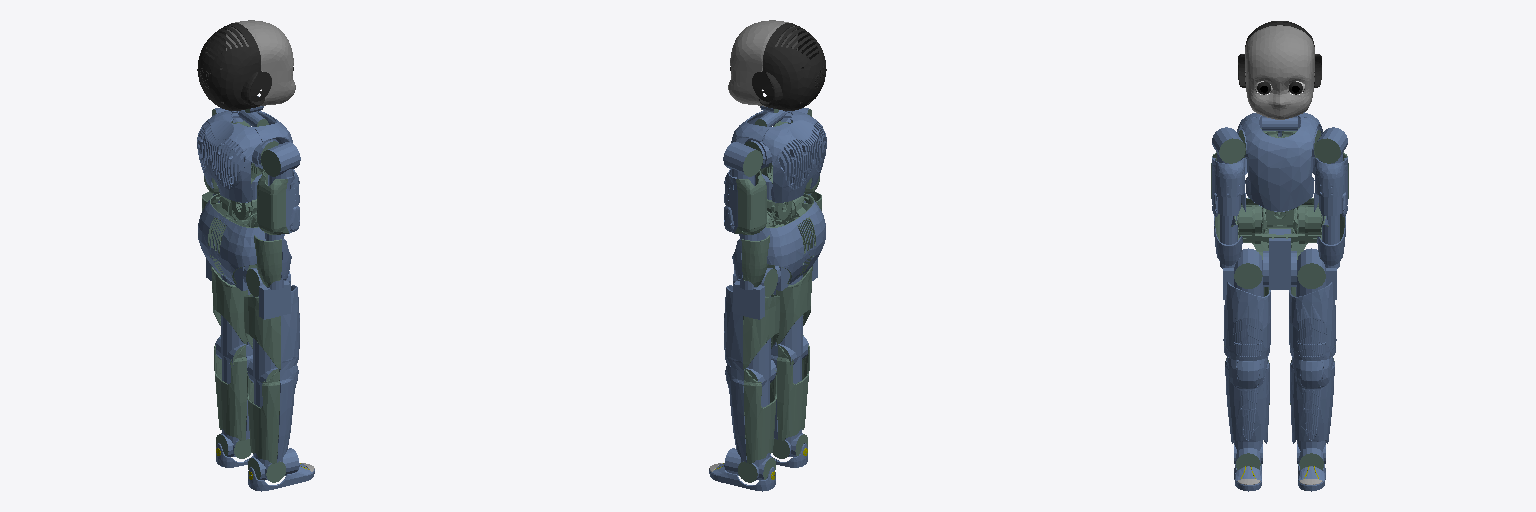
--- What the picture shows (computed from the rendered views, not written in the file) ---
The picture shows the robot from 3 angles, left to right: view 1: azimuth 30°, elevation 25°; view 2: azimuth 150°, elevation 25°; view 3: azimuth 270°, elevation 25°; orthographic projection.
Model iCub with 56 links and 55 joints (12 revolute, 43 fixed), rooted at base_link, posed all joints at 0.
Links seen in each view (by area): view 1: head, chest, torso_1, r_lower_leg, r_upper_leg, l_lower_leg, r_upper_arm, l_upper_leg, r_forearm, r_foot, r_shoulder_2, r_hand (+1 smaller); view 2: head, chest, torso_1, l_lower_leg, l_upper_leg, r_lower_leg, l_upper_arm, r_upper_leg, l_forearm, l_foot, l_shoulder_2, l_hand (+1 smaller); view 3: head, chest, l_lower_leg, r_lower_leg, l_upper_leg, r_upper_leg, torso_1, l_upper_arm, r_upper_arm, root_link, l_forearm, r_forearm (+6 smaller).
Link boxes in pixels (left/top/right/bottom): head: left=197, top=20, right=295, bottom=110; chest: left=197, top=110, right=292, bottom=202; torso_1: left=198, top=193, right=284, bottom=284; r_lower_leg: left=247, top=364, right=298, bottom=466; r_upper_leg: left=244, top=285, right=299, bottom=386; l_lower_leg: left=214, top=335, right=252, bottom=443; r_upper_arm: left=257, top=169, right=299, bottom=234; l_upper_leg: left=211, top=266, right=250, bottom=365; r_forearm: left=254, top=233, right=291, bottom=289; r_foot: left=248, top=448, right=314, bottom=491; r_shoulder_2: left=261, top=142, right=300, bottom=176; r_hand: left=259, top=281, right=290, bottom=319; head: left=728, top=20, right=826, bottom=110; chest: left=731, top=111, right=826, bottom=202; torso_1: left=739, top=193, right=825, bottom=284; l_lower_leg: left=725, top=364, right=776, bottom=466; l_upper_leg: left=724, top=285, right=779, bottom=386; r_lower_leg: left=771, top=335, right=809, bottom=443; l_upper_arm: left=724, top=169, right=766, bottom=234; r_upper_leg: left=773, top=266, right=812, bottom=365; l_forearm: left=732, top=233, right=769, bottom=289; l_foot: left=709, top=448, right=775, bottom=491; l_shoulder_2: left=723, top=142, right=762, bottom=176; l_hand: left=733, top=281, right=764, bottom=319; head: left=1238, top=21, right=1321, bottom=119; chest: left=1237, top=112, right=1322, bottom=211; l_lower_leg: left=1290, top=357, right=1334, bottom=451; r_lower_leg: left=1225, top=357, right=1269, bottom=451; l_upper_leg: left=1289, top=277, right=1336, bottom=360; r_upper_leg: left=1223, top=277, right=1270, bottom=360; torso_1: left=1231, top=198, right=1328, bottom=259; l_upper_arm: left=1314, top=152, right=1348, bottom=216; r_upper_arm: left=1211, top=152, right=1245, bottom=216; root_link: left=1269, top=229, right=1290, bottom=289; l_forearm: left=1317, top=214, right=1345, bottom=268; r_forearm: left=1214, top=214, right=1242, bottom=268.
Bounding box of the posed robot: 0.2284 × 0.2951 × 1.05 m (x, y, z).
Meshes: 28 distinct files referenced, 28 mesh visuals loaded (28 Collada DAE).

URDF robot description (iCub):
<?xml version="1.0" ?>
<robot name="iCub">
    <link name="base_link" />
    <link name="chest">
        <inertial>
            <mass value="4.81" />
            <origin xyz="0.00222898 0.075 -1.18362e-17" rpy="0 -0 0" />
            <inertia ixx="0.07472" ixy="-3.6e-06" ixz="-4.705e-05" iyy="0.08145" iyz="0.004567" izz="0.01306" />
        </inertial>
        <visual>
            <origin xyz="-0.0055 -6.93889e-18 -1.72085e-18" rpy="0 -1.5708 1.5708" />
            <geometry>
                <mesh filename="package://icub_description/meshes/upmc/visual/icub_chest.dae" scale="1 1 1" />
            </geometry>
            <material name="material.metal">
                <texture />
                <!-- <color rgba="0 0 0 1" /> -->
            </material>
        </visual>
        <collision>
            <origin xyz="-0.0055 -6.93889e-18 -1.72085e-18" rpy="0 -1.5708 1.5708" />
            <geometry>
                <mesh filename="package://icub_description/meshes/upmc/collision/icub_simple_collision_chest.dae" scale="1 1 1" />
            </geometry>
        </collision>
    </link>
    <link name="chest_skin_frame">
        <inertial>
            <mass value="0" />
            <origin xyz="0 0 0" rpy="0 -0 0" />
            <inertia ixx="0" ixy="0" ixz="0" iyy="0" iyz="0" izz="0" />
        </inertial>
    </link>
    <link name="codyco_balancing_world">
        <inertial>
            <mass value="0" />
            <origin xyz="0 0 0" rpy="0 -0 0" />
            <inertia ixx="0" ixy="0" ixz="0" iyy="0" iyz="0" izz="0" />
        </inertial>
    </link>
    <link name="head">
        <inertial>
            <mass value="1.33687" />
            <origin xyz="0.0185 -0.1108 6.78454e-18" rpy="0 -0 0" />
            <inertia ixx="0" ixy="0" ixz="2.40741e-35" iyy="0" iyz="0" izz="0" />
        </inertial>
        <visual>
            <origin xyz="0.0045 -0.0235 9.42554e-13" rpy="0 1.5708 -1.5708" />
            <geometry>
                <mesh filename="package://icub_description/meshes/upmc/visual/icub_head.dae" scale="1 1 1" />
            </geometry>
            <material name="material.metal">
                <texture />
                <!-- <color rgba="0 0 0 1" /> -->
            </material>
        </visual>
        <collision>
            <origin xyz="0.0045 -0.0235 9.42554e-13" rpy="0 1.5708 -1.5708" />
            <geometry>
                <mesh filename="package://icub_description/meshes/upmc/collision/icub_simple_collision_head.dae" scale="1 1 1" />
            </geometry>
        </collision>
    </link>
    <link name="imu_frame">
        <inertial>
            <mass value="0" />
            <origin xyz="0 0 0" rpy="0 -0 0" />
            <inertia ixx="0" ixy="0" ixz="0" iyy="0" iyz="0" izz="0" />
        </inertial>
    </link>
    <link name="l_ankle_1">
        <inertial>
            <mass value="0.746" />
            <origin xyz="-0.0054 0.00163 0.0172" rpy="0 -0 0" />
            <inertia ixx="0.00063323" ixy="-7.081e-06" ixz="4.1421e-05" iyy="0.00068776" iyz="2.0817e-05" izz="0.000313897" />
        </inertial>
        <visual>
            <origin xyz="1.11022e-16 -5.54343e-12 4.45647e-12" rpy="1.5708 1.53106e-11 1.53105e-11" />
            <geometry>
                <mesh filename="package://icub_description/meshes/upmc/visual/icub_l_ankle_1.dae" scale="1 1 1" />
            </geometry>
            <material name="material.metal">
                <texture />
                <!-- <color rgba="0 0 0 1" /> -->
            </material>
        </visual>
        <collision>
            <origin xyz="1.11022e-16 -5.54343e-12 4.45647e-12" rpy="1.5708 1.53106e-11 1.53105e-11" />
            <geometry>
                <mesh filename="package://icub_description/meshes/upmc/collision/icub_simple_collision_l_ankle_1.dae" scale="1 1 1" />
            </geometry>
        </collision>
    </link>
    <link name="l_ankle_2">
        <inertial>
            <mass value="0.2675" />
            <origin xyz="0.017 0 0.042" rpy="0 -0 0" />
            <inertia ixx="0" ixy="0" ixz="0" iyy="0" iyz="0" izz="0" />
        </inertial>
    </link>
    <link name="l_elbow_1">
        <inertial>
            <mass value="0.074" />
            <origin xyz="-0.0013 0.00371 -0.00105" rpy="0 -0 0" />
            <inertia ixx="2.8389e-05" ixy="-5.15e-07" ixz="-4.08e-07" iyy="9.244e-06" iyz="-3.71e-07" izz="2.9968e-05" />
        </inertial>
    </link>
    <link name="l_foot">
        <inertial>
            <mass value="0.5935" />
            <origin xyz="0.007069 -0.000613931 -0.0334154" rpy="0 -0 0" />
            <inertia ixx="0.00193893" ixy="-1.3505e-05" ixz="0.0001823" iyy="0.0030191" iyz="-3.30533e-06" izz="0.00162801" />
        </inertial>
        <visual>
            <origin xyz="-0.017 -5.54343e-12 -0.042" rpy="0 1.5708 -2.0414e-11" />
            <geometry>
                <mesh filename="package://icub_description/meshes/upmc/visual/icub_l_foot.dae" scale="1 1 1" />
            </geometry>
            <material name="material.metal">
                <texture />
                <!-- <color rgba="0 0 0 1" /> -->
            </material>
        </visual>
        <collision>
            <origin xyz="-0.017 -5.54343e-12 -0.042" rpy="0 1.5708 -2.0414e-11" />
            <geometry>
                <mesh filename="package://icub_description/meshes/upmc/collision/icub_simple_collision_l_foot.dae" scale="1 1 1" />
            </geometry>
        </collision>
    </link>
    <link name="l_foot_dh_frame">
        <inertial>
            <mass value="0" />
            <origin xyz="0 0 0" rpy="0 -0 0" />
            <inertia ixx="0" ixy="0" ixz="0" iyy="0" iyz="0" izz="0" />
        </inertial>
    </link>
    <link name="l_forearm">
        <inertial>
            <mass value="0.525" />
            <origin xyz="0.000347 0.066 0.00476" rpy="0 -0 0" />
            <inertia ixx="0.000765393" ixy="4.337e-06" ixz="2.39e-07" iyy="0.000164578" iyz="1.9381e-05" izz="0.00069806" />
        </inertial>
        <visual>
            <origin xyz="-0.000143922 -1.25977e-12 0.0204334" rpy="0 1.5708 1.5708" />
            <geometry>
                <mesh filename="package://icub_description/meshes/upmc/visual/icub_l_forearm.dae" scale="1 1 1" />
            </geometry>
            <material name="material.metal">
                <texture />
                <!-- <color rgba="0 0 0 1" /> -->
            </material>
        </visual>
        <collision>
            <origin xyz="-0.000143922 -1.25977e-12 0.0204334" rpy="0 1.5708 1.5708" />
            <geometry>
                <mesh filename="package://icub_description/meshes/upmc/collision/icub_simple_collision_l_forearm.dae" scale="1 1 1" />
            </geometry>
        </collision>
    </link>
    <link name="l_forearm_dh_frame">
        <inertial>
            <mass value="0" />
            <origin xyz="0 0 0" rpy="0 -0 0" />
            <inertia ixx="0" ixy="0" ixz="0" iyy="0" iyz="0" izz="0" />
        </inertial>
    </link>
    <link name="l_gripper">
        <inertial>
            <mass value="0" />
            <origin xyz="0 0 0" rpy="0 -0 0" />
            <inertia ixx="0" ixy="0" ixz="0" iyy="0" iyz="0" izz="0" />
        </inertial>
    </link>
    <link name="l_hand">
        <inertial>
            <mass value="0.213" />
            <origin xyz="0.07023 -0.00805 -0.007" rpy="0 -0 0" />
            <inertia ixx="0.000157143" ixy="1.278e-05" ixz="4.823e-06" iyy="0.000247995" iyz="-1.8188e-05" izz="0.000380535" />
        </inertial>
        <visual>
            <origin xyz="-1.25981e-12 0.0204334 -0.000143922" rpy="5.10195e-12 -2.64173e-12 1.49623e-11" />
            <geometry>
                <mesh filename="package://icub_description/meshes/upmc/visual/icub_l_hand.dae" scale="1 1 1" />
            </geometry>
            <material name="material.metal">
                <texture />
                <!-- <color rgba="0 0 0 1" /> -->
            </material>
        </visual>
        <collision>
            <origin xyz="-1.25981e-12 0.0204334 -0.000143922" rpy="5.10195e-12 -2.64173e-12 1.49623e-11" />
            <geometry>
                <mesh filename="package://icub_description/meshes/upmc/collision/icub_simple_collision_l_hand.dae" scale="1 1 1" />
            </geometry>
        </collision>
    </link>
    <link name="l_hand_dh_frame">
        <inertial>
            <mass value="0" />
            <origin xyz="0 0 0" rpy="0 -0 0" />
            <inertia ixx="0" ixy="0" ixz="0" iyy="0" iyz="0" izz="0" />
        </inertial>
    </link>
    <link name="l_hip_1">
        <inertial>
            <mass value="0.754" />
            <origin xyz="0 -0.0782 0" rpy="0 -0 0" />
            <inertia ixx="0.000471076" ixy="2.059e-06" ixz="1.451e-06" iyy="0.000346478" iyz="1.545e-06" izz="0.000510315" />
        </inertial>
        <visual>
            <origin xyz="0 0 0" rpy="0 1.5708 -1.5708" />
            <geometry>
                <mesh filename="package://icub_description/meshes/upmc/visual/icub_l_hip_1.dae" scale="1 1 1" />
            </geometry>
            <material name="material.metal">
                <texture />
                <!-- <color rgba="0 0 0 1" /> -->
            </material>
        </visual>
        <collision>
            <origin xyz="0 0 0" rpy="0 1.5708 -1.5708" />
            <geometry>
                <mesh filename="package://icub_description/meshes/upmc/collision/icub_simple_collision_l_hip_1.dae" scale="1 1 1" />
            </geometry>
        </collision>
    </link>
    <link name="l_hip_2">
        <inertial>
            <mass value="0.526" />
            <origin xyz="0 0 0.03045" rpy="0 -0 0" />
            <inertia ixx="0.000561583" ixy="-7.4e-08" ixz="1.0835e-05" iyy="0.000738049" iyz="-6.2e-08" izz="0.000294119" />
        </inertial>
        <visual>
            <origin xyz="0 0 0" rpy="0 -1.5708 3.14159" />
            <geometry>
                <mesh filename="package://icub_description/meshes/upmc/visual/icub_l_hip_2.dae" scale="1 1 1" />
            </geometry>
            <material name="material.metal">
                <texture />
                <!-- <color rgba="0 0 0 1" /> -->
            </material>
        </visual>
        <collision>
            <origin xyz="0 0 0" rpy="0 -1.5708 3.14159" />
            <geometry>
                <mesh filename="package://icub_description/meshes/upmc/collision/icub_simple_collision_l_hip_2.dae" scale="1 1 1" />
            </geometry>
        </collision>
    </link>
    <link name="l_hip_3">
        <inertial>
            <mass value="0" />
            <origin xyz="0 0 0" rpy="0 -0 0" />
            <inertia ixx="0" ixy="0" ixz="0" iyy="0" iyz="0" izz="0" />
        </inertial>
    </link>
    <link name="l_lower_leg">
        <inertial>
            <mass value="1.264" />
            <origin xyz="-0.1071 0.00182 0.00211" rpy="0 -0 0" />
            <inertia ixx="0.00099895" ixy="-0.000185699" ixz="-6.3147e-05" iyy="0.00445054" iyz="7.86e-07" izz="0.00420766" />
        </inertial>
        <visual>
            <origin xyz="5.55112e-17 2.28232e-12 2.2823e-12" rpy="-3.14159 -2.33487e-16 1.5708" />
            <geometry>
                <mesh filename="package://icub_description/meshes/upmc/visual/icub_l_shank.dae" scale="1 1 1" />
            </geometry>
            <material name="material.metal">
                <texture />
                <!-- <color rgba="0 0 0 1" /> -->
            </material>
        </visual>
        <collision>
            <origin xyz="5.55112e-17 2.28232e-12 2.2823e-12" rpy="-3.14159 -2.33487e-16 1.5708" />
            <geometry>
                <mesh filename="package://icub_description/meshes/upmc/collision/icub_simple_collision_l_shank.dae" scale="1 1 1" />
            </geometry>
        </collision>
    </link>
    <link name="l_shoulder_1">
        <inertial>
            <mass value="0.189" />
            <origin xyz="-5e-06 0.0187 -0.00119" rpy="0 -0 0" />
            <inertia ixx="5.4421e-05" ixy="9e-09" ixz="0" iyy="9.331e-06" iyz="-1.7e-08" izz="5.4862e-05" />
        </inertial>
        <visual>
            <origin xyz="3.08087e-14 0.109285 -0.00521101" rpy="0 1.5708 -1.5708" />
            <geometry>
                <mesh filename="package://icub_description/meshes/upmc/visual/icub_l_shoulder_1.dae" scale="1 1 1" />
            </geometry>
            <material name="material.metal">
                <texture />
                <!-- <color rgba="0 0 0 1" /> -->
            </material>
        </visual>
        <collision>
            <origin xyz="3.08087e-14 0.109285 -0.00521101" rpy="0 1.5708 -1.5708" />
            <geometry>
                <mesh filename="package://icub_description/meshes/upmc/collision/icub_simple_collision_l_shoulder_1.dae" scale="1 1 1" />
            </geometry>
        </collision>
    </link>
    <link name="l_shoulder_2">
        <inertial>
            <mass value="0.179" />
            <origin xyz="9.4e-05 -0.00627 0.0166" rpy="0 -0 0" />
            <inertia ixx="0.0001372" ixy="4.66e-07" ixz="3.65e-07" iyy="8.2927e-05" iyz="-2.0524e-05" izz="9.9274e-05" />
        </inertial>
        <visual>
            <origin xyz="-0.00154529 -0.00521101 -1.11181e-12" rpy="0 1.5708 1.5708" />
            <geometry>
                <mesh filename="package://icub_description/meshes/upmc/visual/icub_l_shoulder_2.dae" scale="1 1 1" />
            </geometry>
            <material name="material.metal">
                <texture />
                <!-- <color rgba="0 0 0 1" /> -->
            </material>
        </visual>
        <collision>
            <origin xyz="-0.00154529 -0.00521101 -1.11181e-12" rpy="0 1.5708 1.5708" />
            <geometry>
                <mesh filename="package://icub_description/meshes/upmc/collision/icub_simple_collision_l_shoulder_2.dae" scale="1 1 1" />
            </geometry>
        </collision>
    </link>
    <link name="l_shoulder_3">
        <inertial>
            <mass value="0.156157" />
            <origin xyz="0.00559398 9.77357e-05 0.0501346" rpy="0 -0 0" />
            <inertia ixx="4.84118e-05" ixy="-5.662e-08" ixz="-4.3618e-06" iyy="5.79067e-05" iyz="-7.42844e-07" izz="6.7103e-05" />
        </inertial>
    </link>
    <link name="l_sole">
        <inertial>
            <mass value="0" />
            <origin xyz="0 0 0" rpy="0 -0 0" />
            <inertia ixx="0" ixy="0" ixz="0" iyy="0" iyz="0" izz="0" />
        </inertial>
    </link>
    <link name="l_upper_arm">
        <inertial>
            <mass value="0.727843" />
            <origin xyz="-0.000156 -9.87e-05 0.0298" rpy="0 -0 0" />
            <inertia ixx="0.000408" ixy="-1.08e-06" ixz="-2.29e-06" iyy="0.00038" iyz="3.57e-06" izz="0.00026" />
        </inertial>
        <visual>
            <origin xyz="-0.0204334 0.000143922 -0.068" rpy="1.15275e-11 4.9296e-12 -1.309" />
            <geometry>
                <mesh filename="package://icub_description/meshes/upmc/visual/icub_l_arm.dae" scale="1 1 1" />
            </geometry>
            <material name="material.metal">
                <texture />
                <!-- <color rgba="0 0 0 1" /> -->
            </material>
        </visual>
        <collision>
            <origin xyz="-0.0204334 0.000143922 -0.068" rpy="1.15275e-11 4.9296e-12 -1.309" />
            <geometry>
                <mesh filename="package://icub_description/meshes/upmc/collision/icub_simple_collision_l_arm.dae" scale="1 1 1" />
            </geometry>
        </collision>
    </link>
    <link name="l_upper_arm_dh_frame">
        <inertial>
            <mass value="0" />
            <origin xyz="0 0 0" rpy="0 -0 0" />
            <inertia ixx="0" ixy="0" ixz="0" iyy="0" iyz="0" izz="0" />
        </inertial>
    </link>
    <link name="l_upper_leg">
        <inertial>
            <mass value="2.175" />
            <origin xyz="0.00144 -0.15943 -0.00039" rpy="0 -0 0" />
            <inertia ixx="0.00759107" ixy="-6.726e-05" ixz="2.267e-06" iyy="0.00142302" iyz="3.63726e-05" izz="0.00755385" />
        </inertial>
        <visual>
            <origin xyz="0 0 0" rpy="0 1.5708 1.5708" />
            <geometry>
                <mesh filename="package://icub_description/meshes/upmc/visual/icub_l_thigh.dae" scale="1 1 1" />
            </geometry>
            <material name="material.metal">
                <texture />
                <!-- <color rgba="0 0 0 1" /> -->
            </material>
        </visual>
        <collision>
            <origin xyz="0 0 0" rpy="0 1.5708 1.5708" />
            <geometry>
                <mesh filename="package://icub_description/meshes/upmc/collision/icub_simple_collision_l_thigh.dae" scale="1 1 1" />
            </geometry>
        </collision>
    </link>
    <link name="l_wrist_1">
        <inertial>
            <mass value="0" />
            <origin xyz="0 0 0" rpy="0 -0 0" />
            <inertia ixx="0" ixy="0" ixz="0" iyy="0" iyz="0" izz="0" />
        </inertial>
    </link>
    <link name="neck_1">
        <inertial>
            <mass value="0" />
            <origin xyz="0 0 0" rpy="0 -0 0" />
            <inertia ixx="0" ixy="0" ixz="0" iyy="0" iyz="0" izz="0" />
        </inertial>
        <visual>
            <origin xyz="-1.11022e-16 9.62964e-13 -0.0055" rpy="0 -1.5708 -1.5708" />
            <geometry>
                <mesh filename="package://icub_description/meshes/upmc/visual/icub_neck_1.dae" scale="1 1 1" />
            </geometry>
            <material name="material.metal">
                <texture />
                <!-- <color rgba="0 0 0 1" /> -->
            </material>
        </visual>
        <collision>
            <origin xyz="-1.11022e-16 9.62964e-13 -0.0055" rpy="0 -1.5708 -1.5708" />
            <geometry>
                <mesh filename="package://icub_description/meshes/upmc/collision/icub_simple_collision_neck_1.dae" scale="1 1 1" />
            </geometry>
        </collision>
    </link>
    <link name="neck_2">
        <inertial>
            <mass value="0" />
            <origin xyz="0 0 0" rpy="0 -0 0" />
            <inertia ixx="0" ixy="0" ixz="0" iyy="0" iyz="0" izz="0" />
        </inertial>
        <visual>
            <origin xyz="-9.62967e-13 0.0055 0.0235" rpy="0 -1.5708 1.5708" />
            <geometry>
                <mesh filename="package://icub_description/meshes/upmc/visual/icub_neck_2.dae" scale="1 1 1" />
            </geometry>
            <material name="material.metal">
                <texture />
                <!-- <color rgba="0 0 0 1" /> -->
            </material>
        </visual>
        <collision>
            <origin xyz="-9.62967e-13 0.0055 0.0235" rpy="0 -1.5708 1.5708" />
            <geometry>
                <mesh filename="package://icub_description/meshes/upmc/collision/icub_simple_collision_neck_2.dae" scale="1 1 1" />
            </geometry>
        </collision>
    </link>
    <link name="r_ankle_1">
        <inertial>
            <mass value="0.746" />
            <origin xyz="-0.0054 0.00163 -0.0172" rpy="0 -0 0" />
            <inertia ixx="2.71051e-20" ixy="-1.69407e-21" ixz="1.35525e-20" iyy="5.42101e-20" iyz="3.38813e-21" izz="1.35525e-20" />
        </inertial>
        <visual>
            <origin xyz="1.11022e-16 -1.08717e-12 -4.45647e-12" rpy="-1.5708 -1.53106e-11 5.10376e-12" />
            <geometry>
                <mesh filename="package://icub_description/meshes/upmc/visual/icub_r_ankle_1.dae" scale="1 1 1" />
            </geometry>
            <material name="material.metal">
                <texture />
                <!-- <color rgba="0 0 0 1" /> -->
            </material>
        </visual>
        <collision>
            <origin xyz="1.11022e-16 -1.08717e-12 -4.45647e-12" rpy="-1.5708 -1.53106e-11 5.10376e-12" />
            <geometry>
                <mesh filename="package://icub_description/meshes/upmc/collision/icub_simple_collision_r_ankle_1.dae" scale="1 1 1" />
            </geometry>
        </collision>
    </link>
    <link name="r_ankle_2">
        <inertial>
            <mass value="0.2675" />
            <origin xyz="0.017 0 0.042" rpy="0 -0 0" />
            <inertia ixx="0" ixy="0" ixz="0" iyy="0" iyz="0" izz="0" />
        </inertial>
    </link>
    <link name="r_elbow_1">
        <inertial>
            <mass value="0.074" />
            <origin xyz="0.0013 -0.00371 0.00105" rpy="0 -0 0" />
            <inertia ixx="2.84e-05" ixy="-5.02e-07" ixz="-3.99e-07" iyy="9.24e-06" iyz="-3.71e-07" izz="2.99e-05" />
        </inertial>
    </link>
    <link name="r_foot">
        <inertial>
            <mass value="0.5935" />
            <origin xyz="0.007069 0.000613931 -0.0334154" rpy="0 -0 0" />
            <inertia ixx="0.00193893" ixy="1.3505e-05" ixz="0.0001823" iyy="0.0030191" iyz="3.30551e-06" izz="0.00162801" />
        </inertial>
        <visual>
            <origin xyz="-0.017 1.08717e-12 -0.042" rpy="0 1.5708 3.14159" />
            <geometry>
                <mesh filename="package://icub_description/meshes/upmc/visual/icub_r_foot.dae" scale="1 1 1" />
            </geometry>
            <material name="material.metal">
                <texture />
                <!-- <color rgba="0 0 0 1" /> -->
            </material>
        </visual>
        <collision>
            <origin xyz="-0.017 1.08717e-12 -0.042" rpy="0 1.5708 3.14159" />
            <geometry>
                <mesh filename="package://icub_description/meshes/upmc/collision/icub_simple_collision_r_foot.dae" scale="1 1 1" />
            </geometry>
        </collision>
    </link>
    <link name="r_foot_dh_frame">
        <inertial>
            <mass value="0" />
            <origin xyz="0 0 0" rpy="0 -0 0" />
            <inertia ixx="0" ixy="0" ixz="0" iyy="0" iyz="0" izz="0" />
        </inertial>
    </link>
    <link name="r_forearm">
        <inertial>
            <mass value="0.525" />
            <origin xyz="-0.000347 -0.066 -0.00476" rpy="0 -0 0" />
            <inertia ixx="0.000766" ixy="5.66e-06" ixz="1.4e-06" iyy="0.000164" iyz="1.82e-05" izz="0.000699" />
        </inertial>
        <visual>
            <origin xyz="0.000143922 -1.07216e-12 -0.0204334" rpy="0 1.5708 1.5708" />
            <geometry>
                <mesh filename="package://icub_description/meshes/upmc/visual/icub_r_forearm.dae" scale="1 1 1" />
            </geometry>
            <material name="material.metal">
                <texture />
                <!-- <color rgba="0 0 0 1" /> -->
            </material>
        </visual>
        <collision>
            <origin xyz="0.000143922 -1.07216e-12 -0.0204334" rpy="0 1.5708 1.5708" />
            <geometry>
                <mesh filename="package://icub_description/meshes/upmc/collision/icub_simple_collision_r_forearm.dae" scale="1 1 1" />
            </geometry>
        </collision>
    </link>
    <link name="r_forearm_dh_frame">
        <inertial>
            <mass value="0" />
            <origin xyz="0 0 0" rpy="0 -0 0" />
            <inertia ixx="0" ixy="0" ixz="0" iyy="0" iyz="0" izz="0" />
        </inertial>
    </link>
    <link name="r_gripper">
        <inertial>
            <mass value="0" />
            <origin xyz="0 0 0" rpy="0 -0 0" />
            <inertia ixx="0" ixy="0" ixz="0" iyy="0" iyz="0" izz="0" />
        </inertial>
    </link>
    <link name="r_hand">
        <inertial>
            <mass value="0.213" />
            <origin xyz="0.07023 -0.00805 0.007" rpy="0 -0 0" />
            <inertia ixx="0.000154" ixy="1.26e-05" ixz="-6.08e-06" iyy="0.00025" iyz="1.76e-05" izz="0.000378" />
        </inertial>
        <visual>
            <origin xyz="1.07207e-12 0.0204334 0.000143922" rpy="1.53098e-11 2.00665e-11 -3.14159" />
            <geometry>
                <mesh filename="package://icub_description/meshes/upmc/visual/icub_r_hand.dae" scale="1 1 1" />
            </geometry>
            <material name="material.metal">
                <texture />
                <!-- <color rgba="0 0 0 1" /> -->
            </material>
        </visual>
        <collision>
            <origin xyz="1.07207e-12 0.0204334 0.000143922" rpy="1.53098e-11 2.00665e-11 -3.14159" />
            <geometry>
                <mesh filename="package://icub_description/meshes/upmc/collision/icub_simple_collision_r_hand.dae" scale="1 1 1" />
            </geometry>
        </collision>
    </link>
    <link name="r_hand_dh_frame">
        <inertial>
            <mass value="0" />
            <origin xyz="0 0 0" rpy="0 -0 0" />
            <inertia ixx="0" ixy="0" ixz="0" iyy="0" iyz="0" izz="0" />
        </inertial>
    </link>
    <link name="r_hip_1">
        <inertial>
            <mass value="0.754" />
            <origin xyz="0 -0.0782 0" rpy="0 -0 0" />
            <inertia ixx="0" ixy="0" ixz="0" iyy="0" iyz="0" izz="0" />
        </inertial>
        <visual>
            <origin xyz="0 0 0" rpy="0 -1.5708 4.71239" />
            <geometry>
                <mesh filename="package://icub_description/meshes/upmc/visual/icub_r_hip_1.dae" scale="1 1 1" />
            </geometry>
            <material name="material.metal">
                <texture />
                <!-- <color rgba="0 0 0 1" /> -->
            </material>
        </visual>
        <collision>
            <origin xyz="0 0 0" rpy="0 -1.5708 4.71239" />
            <geometry>
                <mesh filename="package://icub_description/meshes/upmc/collision/icub_simple_collision_r_hip_1.dae" scale="1 1 1" />
            </geometry>
        </collision>
    </link>
    <link name="r_hip_2">
        <inertial>
            <mass value="0.526" />
            <origin xyz="0 0 0.03045" rpy="0 -0 0" />
            <inertia ixx="-5.42101e-20" ixy="0" ixz="0" iyy="-5.42101e-20" iyz="0" izz="0" />
        </inertial>
        <visual>
            <origin xyz="0 0 0" rpy="0 -1.5708 1.02066e-11" />
            <geometry>
                <mesh filename="package://icub_description/meshes/upmc/visual/icub_r_hip_2.dae" scale="1 1 1" />
            </geometry>
            <material name="material.metal">
                <texture />
                <!-- <color rgba="0 0 0 1" /> -->
            </material>
        </visual>
        <collision>
            <origin xyz="0 0 0" rpy="0 -1.5708 1.02066e-11" />
            <geometry>
                <mesh filename="package://icub_description/meshes/upmc/collision/icub_simple_collision_r_hip_2.dae" scale="1 1 1" />
            </geometry>
        </collision>
    </link>
    <link name="r_hip_3">
        <inertial>
            <mass value="0" />
            <origin xyz="0 0 0" rpy="0 -0 0" />
            <inertia ixx="0" ixy="0" ixz="0" iyy="0" iyz="0" izz="0" />
        </inertial>
    </link>
    <link name="r_lower_leg">
        <inertial>
            <mass value="1.264" />
            <origin xyz="-0.1071 0.00182 -0.00211" rpy="0 -0 0" />
            <inertia ixx="1.10961e-18" ixy="5.42101e-20" ixz="-5.42101e-20" iyy="0" iyz="8.47033e-22" izz="0" />
        </inertial>
        <visual>
            <origin xyz="5.55112e-17 2.28232e-12 -8.32667e-17" rpy="3.14159 -1.14424e-17 1.5708" />
            <geometry>
                <mesh filename="package://icub_description/meshes/upmc/visual/icub_r_shank.dae" scale="1 1 1" />
            </geometry>
            <material name="material.metal">
                <texture />
                <!-- <color rgba="0 0 0 1" /> -->
            </material>
        </visual>
        <collision>
            <origin xyz="5.55112e-17 2.28232e-12 -8.32667e-17" rpy="3.14159 -1.14424e-17 1.5708" />
            <geometry>
                <mesh filename="package://icub_description/meshes/upmc/collision/icub_simple_collision_r_shank.dae" scale="1 1 1" />
            </geometry>
        </collision>
    </link>
    <link name="r_shoulder_1">
        <inertial>
            <mass value="0.189" />
            <origin xyz="5e-06 0.0187 0.00119" rpy="0 -0 0" />
            <inertia ixx="0.000123" ixy="2.1e-08" ixz="-1e-09" iyy="2.44e-05" iyz="4.22e-06" izz="0.000113" />
        </inertial>
        <visual>
            <origin xyz="-3.08642e-14 0.109285 0.00521101" rpy="0 1.5708 1.5708" />
            <geometry>
                <mesh filename="package://icub_description/meshes/upmc/visual/icub_r_shoulder_1.dae" scale="1 1 1" />
            </geometry>
            <material name="material.metal">
                <texture />
                <!-- <color rgba="0 0 0 1" /> -->
            </material>
        </visual>
        <collision>
            <origin xyz="-3.08642e-14 0.109285 0.00521101" rpy="0 1.5708 1.5708" />
            <geometry>
                <mesh filename="package://icub_description/meshes/upmc/collision/icub_simple_collision_r_shoulder_1.dae" scale="1 1 1" />
            </geometry>
        </collision>
    </link>
    <link name="r_shoulder_2">
        <inertial>
            <mass value="0.179" />
            <origin xyz="-9.4e-05 -0.00627 -0.0166" rpy="0 -0 0" />
            <inertia ixx="0.000137" ixy="-4.53e-07" ixz="2.03e-07" iyy="8.3e-05" iyz="2.07e-05" izz="9.93e-05" />
        </inertial>
        <visual>
            <origin xyz="-0.00154529 -0.00521101 -1.11186e-12" rpy="0 -1.5708 1.5708" />
            <geometry>
                <mesh filename="package://icub_description/meshes/upmc/visual/icub_r_shoulder_2.dae" scale="1 1 1" />
            </geometry>
            <material name="material.metal">
                <texture />
                <!-- <color rgba="0 0 0 1" /> -->
            </material>
        </visual>
        <collision>
            <origin xyz="-0.00154529 -0.00521101 -1.11186e-12" rpy="0 -1.5708 1.5708" />
            <geometry>
                <mesh filename="package://icub_description/meshes/upmc/collision/icub_simple_collision_r_shoulder_2.dae" scale="1 1 1" />
            </geometry>
        </collision>
    </link>
    <link name="r_shoulder_3">
        <inertial>
            <mass value="0.155" />
            <origin xyz="0.00553932 -2.47652e-05 0.0493895" rpy="0 -0 0" />
            <inertia ixx="3.44122e-05" ixy="3.56977e-07" ixz="-3.95372e-06" iyy="4.33544e-05" iyz="-6.5128e-06" izz="6.49393e-05" />
        </inertial>
    </link>
    <link name="r_sole">
        <inertial>
            <mass value="0" />
            <origin xyz="0 0 0" rpy="0 -0 0" />
            <inertia ixx="0" ixy="0" ixz="0" iyy="0" iyz="0" izz="0" />
        </inertial>
    </link>
    <link name="r_upper_arm">
        <inertial>
            <mass value="0.729" />
            <origin xyz="-0.00015906 8.28733e-05 0.0298828" rpy="0 -0 0" />
            <inertia ixx="0.000408" ixy="-1.08e-06" ixz="-2.29e-06" iyy="0.00038" iyz="3.57e-06" izz="0.00026" />
        </inertial>
        <visual>
            <origin xyz="-0.0204334 -0.000143922 -0.068" rpy="-3.14159 -1.5137e-11 1.309" />
            <geometry>
                <mesh filename="package://icub_description/meshes/upmc/visual/icub_r_arm.dae" scale="1 1 1" />
            </geometry>
            <material name="material.metal">
                <texture />
                <!-- <color rgba="0 0 0 1" /> -->
            </material>
        </visual>
        <collision>
            <origin xyz="-0.0204334 -0.000143922 -0.068" rpy="-3.14159 -1.5137e-11 1.309" />
            <geometry>
                <mesh filename="package://icub_description/meshes/upmc/collision/icub_simple_collision_r_arm.dae" scale="1 1 1" />
            </geometry>
        </collision>
    </link>
    <link name="r_upper_arm_dh_frame">
        <inertial>
            <mass value="0" />
            <origin xyz="0 0 0" rpy="0 -0 0" />
            <inertia ixx="0" ixy="0" ixz="0" iyy="0" iyz="0" izz="0" />
        </inertial>
    </link>
    <link name="r_upper_leg">
        <inertial>
            <mass value="2.175" />
            <origin xyz="0.00144 -0.15943 0.00039" rpy="0 -0 0" />
            <inertia ixx="0" ixy="0" ixz="0" iyy="4.07592e-18" iyz="-2.71051e-20" izz="0" />
        </inertial>
        <visual>
            <origin xyz="0 0 0" rpy="0 -1.5708 1.5708" />
            <geometry>
                <mesh filename="package://icub_description/meshes/upmc/visual/icub_r_thigh.dae" scale="1 1 1" />
            </geometry>
            <material name="material.metal">
                <texture />
                <!-- <color rgba="0 0 0 1" /> -->
            </material>
        </visual>
        <collision>
            <origin xyz="0 0 0" rpy="0 -1.5708 1.5708" />
            <geometry>
                <mesh filename="package://icub_description/meshes/upmc/collision/icub_simple_collision_r_thigh.dae" scale="1 1 1" />
            </geometry>
        </collision>
    </link>
    <link name="r_wrist_1">
        <inertial>
            <mass value="0" />
            <origin xyz="0 0 0" rpy="0 -0 0" />
            <inertia ixx="0" ixy="0" ixz="0" iyy="0" iyz="0" izz="0" />
        </inertial>
    </link>
    <link name="root_link">
        <inertial>
            <mass value="4.72" />
            <origin xyz="0 0 0" rpy="0 -0 0" />
            <inertia ixx="0" ixy="0" ixz="0" iyy="0" iyz="0" izz="0" />
        </inertial>
        <visual>
            <origin xyz="0 0 0" rpy="0 -0 0" />
            <geometry>
                <mesh filename="package://icub_description/meshes/upmc/visual/icub_root_link.dae" scale="1 1 1" />
            </geometry>
            <material name="material.metal">
                <texture />
                <!-- <color rgba="0 0 0 1" /> -->
            </material>
        </visual>
        <collision>
            <origin xyz="0 0 0" rpy="0 -0 0" />
            <geometry>
                <mesh filename="package://icub_description/meshes/upmc/collision/icub_simple_collision_root_link.dae" scale="1 1 1" />
            </geometry>
        </collision>
    </link>
    <link name="torso">
        <inertial>
            <mass value="0" />
            <origin xyz="0 0 0" rpy="0 -0 0" />
            <inertia ixx="0" ixy="0" ixz="0" iyy="0" iyz="0" izz="0" />
        </inertial>
    </link>
    <link name="torso_1">
        <inertial>
            <mass value="0" />
            <origin xyz="0 0 0" rpy="0 -0 0" />
            <inertia ixx="0.0004544" ixy="-4.263e-05" ixz="-3.889e-08" iyy="0.001141" iyz="0" izz="0.001236" />
        </inertial>
        <visual>
            <origin xyz="0 0 0" rpy="-1.5708 5.10314e-12 1.11022e-16" />
            <geometry>
                <mesh filename="package://icub_description/meshes/upmc/visual/icub_lap_belt_1.dae" scale="1 1 1" />
            </geometry>
            <material name="material.metal">
                <texture />
                <!-- <color rgba="0 0 0 1" /> -->
            </material>
        </visual>
        <collision>
            <origin xyz="0 0 0" rpy="-1.5708 5.10314e-12 1.11022e-16" />
            <geometry>
                <mesh filename="package://icub_description/meshes/upmc/collision/icub_simple_collision_lap_belt_1.dae" scale="1 1 1" />
            </geometry>
        </collision>
    </link>
    <link name="torso_2">
        <inertial>
            <mass value="0" />
            <origin xyz="0 0 0" rpy="0 -0 0" />
            <inertia ixx="0.0005308" ixy="-1.923e-06" ixz="5.095e-05" iyy="0.002031" iyz="-3.849e-07" izz="0.001803" />
        </inertial>
    </link>
    <joint name="torso_yaw" type="fixed">
        <origin xyz="-7.46298e-34 -0.0055 0" rpy="-1.5708 1.11022e-16 -1.5708" />
        <axis xyz="0 -1 6.12323e-17" />
        <parent link="torso_2" />
        <child link="chest" />
        <dynamics damping="0" friction="0" />
        <limit effort="80" velocity="100" lower="-1.02974" upper="1.02974" />
    </joint>
    <joint name="chest_skin_frame_fixed_joint" type="fixed">
        <origin xyz="-0.0055 -0.032 3.36778e-19" rpy="1.5708 -1.22465e-16 -3.14159" />
        <axis xyz="0 0 0" />
        <parent link="chest" />
        <child link="chest_skin_frame" />
    </joint>
    <joint name="codyco_balancing_world_fixed_joint" type="fixed">
        <origin xyz="-0.0353 -7.60894e-35 -0.001" rpy="3.14159 -0 0" />
        <axis xyz="0 0 0" />
        <parent link="l_foot" />
        <child link="codyco_balancing_world" />
    </joint>
    <joint name="neck_yaw" type="fixed">
        <origin xyz="-5.77779e-34 0 0" rpy="-1.5708 -1.11022e-16 1.5708" />
        <axis xyz="0 -1 6.12323e-17" />
        <parent link="neck_2" />
        <child link="head" />
        <dynamics damping="0" friction="0" />
        <limit effort="20" velocity="100" lower="-0.959931" upper="0.959931" />
    </joint>
    <joint name="imu_frame_fixed_joint" type="fixed">
        <origin xyz="0.0185 -0.1108 0.0066" rpy="1.5708 -0 0" />
        <axis xyz="0 0 0" />
        <parent link="head" />
        <child link="imu_frame" />
    </joint>
    <joint name="l_ankle_pitch" type="revolute">
        <origin xyz="-0.213 0 0" rpy="-1.5708 0 0" />
        <axis xyz="0 -1 6.12323e-17" />
        <parent link="l_lower_leg" />
        <child link="l_ankle_1" />
        <dynamics damping="0" friction="0" />
        <limit effort="24" velocity="100" lower="-0.733038" upper="0.366519" />
    </joint>
    <joint name="l_ankle_roll" type="revolute">
        <origin xyz="0 0 0" rpy="0 -1.5708 0" />
        <axis xyz="1 0 0" />
        <parent link="l_ankle_1" />
        <child link="l_ankle_2" />
        <dynamics damping="0" friction="0" />
        <limit effort="11" velocity="100" lower="-0.418879" upper="0.418879" />
    </joint>
    <joint name="l_elbow" type="fixed">
        <origin xyz="0 0 0.08428" rpy="-6.12323e-17 0 0" />
        <axis xyz="0 1 6.12323e-17" />
        <parent link="l_upper_arm" />
        <child link="l_elbow_1" />
        <dynamics damping="0" friction="0" />
        <limit effort="20" velocity="100" lower="0.0959931" upper="1.85005" />
    </joint>
    <joint name="l_foot_ft_sensor" type="fixed">
        <origin xyz="0.017 0 0.042" rpy="0 -0 0" />
        <axis xyz="0 0 0" />
        <parent link="l_ankle_2" />
        <child link="l_foot" />
    </joint>
    <joint name="l_foot_dh_frame_fixed_joint" type="fixed">
        <origin xyz="-0.0353 0 -0.001" rpy="0 1.5708 -0" />
        <axis xyz="0 0 0" />
        <parent link="l_foot" />
        <child link="l_foot_dh_frame" />
    </joint>
    <joint name="l_wrist_prosup" type="fixed">
        <origin xyz="-0.015 0 0" rpy="1.5708 -1.11022e-16 -1.5708" />
        <axis xyz="0 1 6.12323e-17" />
        <parent link="l_elbow_1" />
        <child link="l_forearm" />
        <dynamics damping="0" friction="0" />
        <limit effort="0.45" velocity="100" lower="-0.872665" upper="0.872665" />
    </joint>
    <joint name="l_forearm_dh_frame_fixed_joint" type="fixed">
        <origin xyz="0 0.1373 8.4072e-18" rpy="0 -0 0" />
        <axis xyz="0 0 0" />
        <parent link="l_forearm" />
        <child link="l_forearm_dh_frame" />
    </joint>
    <joint name="l_gripper_joint" type="fixed">
        <origin xyz="0.0625 0 -0.016" rpy="0 -0 0" />
        <axis xyz="0 0 0" />
        <parent link="l_hand" />
        <child link="l_gripper" />
    </joint>
    <joint name="l_wrist_yaw" type="fixed">
        <origin xyz="0 0 0" rpy="0 -0 0" />
        <axis xyz="0 0 1" />
        <parent link="l_wrist_1" />
        <child link="l_hand" />
        <dynamics damping="0" friction="0" />
        <limit effort="0.65" velocity="100" lower="-0.436332" upper="0.436332" />
    </joint>
    <joint name="l_hand_dh_frame_fixed_joint" type="fixed">
        <origin xyz="0.0625 0 -0.016" rpy="0 -0 0" />
        <axis xyz="0 0 0" />
        <parent link="l_hand" />
        <child link="l_hand_dh_frame" />
    </joint>
    <joint name="l_hip_pitch" type="revolute">
        <origin xyz="0 -0.0681 -0.1199" rpy="0 1.5708 -3.14159" />
        <axis xyz="0 -1 6.12323e-17" />
        <parent link="root_link" />
        <child link="l_hip_1" />
        <dynamics damping="0" friction="0" />
        <limit effort="84" velocity="100" lower="-0.767945" upper="2.30383" />
    </joint>
    <joint name="l_hip_roll" type="revolute">
        <origin xyz="0 0 0" rpy="0 -1.5708 3.14159" />
        <axis xyz="1 0 -6.12323e-17" />
        <parent link="l_hip_1" />
        <child link="l_hip_2" />
        <dynamics damping="0" friction="0" />
        <limit effort="84" velocity="100" lower="-2.07694" upper="0.296706" />
    </joint>
    <joint name="l_leg_ft_sensor" type="fixed">
        <origin xyz="0 0 0.0665" rpy="0 -0 0" />
        <axis xyz="0 0 0" />
        <parent link="l_hip_2" />
        <child link="l_hip_3" />
    </joint>
    <joint name="l_knee" type="revolute">
        <origin xyz="0 -0.2236 -1.36916e-17" rpy="3.14159 -1.2326e-32 1.5708" />
        <axis xyz="0 1.22465e-16 -1" />
        <parent link="l_upper_leg" />
        <child link="l_lower_leg" />
        <dynamics damping="0" friction="0" />
        <limit effort="30" velocity="100" lower="-2.18166" upper="0.401426" />
    </joint>
    <joint name="l_shoulder_pitch" type="fixed">
        <origin xyz="0.00525 0.1433 -0.11026" rpy="1.309 5.55112e-17 1.5708" />
        <axis xyz="0 -1 5.55112e-17" />
        <parent link="chest" />
        <child link="l_shoulder_1" />
        <dynamics damping="0" friction="0" />
        <limit effort="84" velocity="100" lower="-1.65806" upper="0.0872665" />
    </joint>
    <joint name="l_shoulder_roll" type="fixed">
        <origin xyz="0 0 0" rpy="1.5708 -1.11022e-16 -1.5708" />
        <axis xyz="0 1 6.12323e-17" />
        <parent link="l_shoulder_1" />
        <child link="l_shoulder_2" />
        <dynamics damping="0" friction="0" />
        <limit effort="84" velocity="100" lower="0" upper="2.80649" />
    </joint>
    <joint name="l_shoulder_yaw" type="fixed">
        <origin xyz="4.33681e-19 1.73472e-18 0" rpy="6.12323e-17 -0 1.309" />
        <axis xyz="0 6.12323e-17 1" />
        <parent link="l_shoulder_2" />
        <child link="l_shoulder_3" />
        <dynamics damping="0" friction="0" />
        <limit effort="34" velocity="100" lower="-0.645772" upper="1.74533" />
    </joint>
    <joint name="l_sole_fixed_joint" type="fixed">
        <origin xyz="-0.0353 -7.60894e-35 -0.001" rpy="3.14159 -0 0" />
        <axis xyz="0 0 0" />
        <parent link="l_foot" />
        <child link="l_sole" />
    </joint>
    <joint name="l_arm_ft_sensor" type="fixed">
        <origin xyz="0.015 9.36797e-18 0.068" rpy="0 -0 0" />
        <axis xyz="0 0 0" />
        <parent link="l_shoulder_3" />
        <child link="l_upper_arm" />
    </joint>
    <joint name="l_upper_arm_dh_frame_fixed_joint" type="fixed">
        <origin xyz="0 0 0.08428" rpy="-1.5708 0 0" />
        <axis xyz="0 0 0" />
        <parent link="l_upper_arm" />
        <child link="l_upper_arm_dh_frame" />
    </joint>
    <joint name="l_hip_yaw" type="revolute">
        <origin xyz="0 0 -0.0665" rpy="-1.5708 -6.16298e-33 -6.12323e-17" />
        <axis xyz="0 1 6.12323e-17" />
        <parent link="l_hip_3" />
        <child link="l_upper_leg" />
        <dynamics damping="0" friction="0" />
        <limit effort="40" velocity="100" lower="-1.37881" upper="1.37881" />
    </joint>
    <joint name="l_wrist_pitch" type="fixed">
        <origin xyz="0 0.1373 8.4072e-18" rpy="1.5708 1.11022e-16 1.5708" />
        <axis xyz="0 1 6.12323e-17" />
        <parent link="l_forearm" />
        <child link="l_wrist_1" />
        <dynamics damping="0" friction="0" />
        <limit effort="0.65" velocity="100" lower="-1.13446" upper="0.174533" />
    </joint>
    <joint name="neck_pitch" type="fixed">
        <origin xyz="0.00231 0.1933 -1.18362e-17" rpy="1.5708 1.11022e-16 1.5708" />
        <axis xyz="0 1 6.12323e-17" />
        <parent link="chest" />
        <child link="neck_1" />
        <dynamics damping="0" friction="0" />
        <limit effort="20" velocity="100" lower="-0.698132" upper="0.523599" />
    </joint>
    <joint name="neck_roll" type="fixed">
        <origin xyz="0.0095 0 0" rpy="-1.5708 1.11022e-16 -1.5708" />
        <axis xyz="0 -1 6.12323e-17" />
        <parent link="neck_1" />
        <child link="neck_2" />
        <dynamics damping="0" friction="0" />
        <limit effort="20" velocity="100" lower="-1.22173" upper="1.0472" />
    </joint>
    <joint name="r_ankle_pitch" type="revolute">
        <origin xyz="-0.213 0 0" rpy="1.5708 -0 0" />
        <axis xyz="0 1 6.12323e-17" />
        <parent link="r_lower_leg" />
        <child link="r_ankle_1" />
        <dynamics damping="0" friction="0" />
        <limit effort="24" velocity="100" lower="-0.733038" upper="0.366519" />
    </joint>
    <joint name="r_ankle_roll" type="revolute">
        <origin xyz="0 0 0" rpy="0 1.5708 3.14159" />
        <axis xyz="-1 1.22465e-16 0" />
        <parent link="r_ankle_1" />
        <child link="r_ankle_2" />
        <dynamics damping="0" friction="0" />
        <limit effort="11" velocity="100" lower="-0.418879" upper="0.418879" />
    </joint>
    <joint name="r_elbow" type="fixed">
        <origin xyz="0 0 0.08428" rpy="3.14159 -0 3.14159" />
        <axis xyz="0 1 6.12323e-17" />
        <parent link="r_upper_arm" />
        <child link="r_elbow_1" />
        <dynamics damping="0" friction="0" />
        <limit effort="20" velocity="100" lower="0.0959931" upper="1.85005" />
    </joint>
    <joint name="r_foot_ft_sensor" type="fixed">
        <origin xyz="0.017 0 0.042" rpy="0 -0 0" />
        <axis xyz="0 0 0" />
        <parent link="r_ankle_2" />
        <child link="r_foot" />
    </joint>
    <joint name="r_foot_dh_frame_fixed_joint" type="fixed">
        <origin xyz="-0.0353 0 -0.001" rpy="0 1.5708 -0" />
        <axis xyz="0 0 0" />
        <parent link="r_foot" />
        <child link="r_foot_dh_frame" />
    </joint>
    <joint name="r_wrist_prosup" type="fixed">
        <origin xyz="0.015 0 0" rpy="1.5708 -1.11022e-16 -1.5708" />
        <axis xyz="0 1 6.12323e-17" />
        <parent link="r_elbow_1" />
        <child link="r_forearm" />
        <dynamics damping="0" friction="0" />
        <limit effort="0.45" velocity="100" lower="-0.872665" upper="0.872665" />
    </joint>
    <joint name="r_forearm_dh_frame_fixed_joint" type="fixed">
        <origin xyz="0 -0.1373 -8.4072e-18" rpy="0 -0 0" />
        <axis xyz="0 0 0" />
        <parent link="r_forearm" />
        <child link="r_forearm_dh_frame" />
    </joint>
    <joint name="r_gripper_joint" type="fixed">
        <origin xyz="0.0625 0 0.016" rpy="0 -0 0" />
        <axis xyz="0 0 0" />
        <parent link="r_hand" />
        <child link="r_gripper" />
    </joint>
    <joint name="r_wrist_yaw" type="fixed">
        <origin xyz="0 0 0" rpy="0 -0 3.14159" />
        <axis xyz="0 0 1" />
        <parent link="r_wrist_1" />
        <child link="r_hand" />
        <dynamics damping="0" friction="0" />
        <limit effort="0.65" velocity="100" lower="-0.436332" upper="0.436332" />
    </joint>
    <joint name="r_hand_dh_frame_fixed_joint" type="fixed">
        <origin xyz="0.0625 0 0.016" rpy="0 -0 0" />
        <axis xyz="0 0 0" />
        <parent link="r_hand" />
        <child link="r_hand_dh_frame" />
    </joint>
    <joint name="r_hip_pitch" type="revolute">
        <origin xyz="0 0.0681 -0.1199" rpy="0 1.5708 6.12323e-17" />
        <axis xyz="0 1 6.12323e-17" />
        <parent link="root_link" />
        <child link="r_hip_1" />
        <dynamics damping="0" friction="0" />
        <limit effort="84" velocity="100" lower="-0.767945" upper="2.30383" />
    </joint>
    <joint name="r_hip_roll" type="revolute">
        <origin xyz="0 0 0" rpy="0 1.5708 -6.12323e-17" />
        <axis xyz="-1 0 6.12323e-17" />
        <parent link="r_hip_1" />
        <child link="r_hip_2" />
        <dynamics damping="0" friction="0" />
        <limit effort="84" velocity="100" lower="-2.07694" upper="0.296706" />
    </joint>
    <joint name="r_leg_ft_sensor" type="fixed">
        <origin xyz="0 0 0.0665" rpy="0 -0 0" />
        <axis xyz="0 0 0" />
        <parent link="r_hip_2" />
        <child link="r_hip_3" />
    </joint>
    <joint name="r_knee" type="revolute">
        <origin xyz="0 -0.2236 1.36916e-17" rpy="3.14159 -1.2326e-32 1.5708" />
        <axis xyz="0 1.22465e-16 -1" />
        <parent link="r_upper_leg" />
        <child link="r_lower_leg" />
        <dynamics damping="0" friction="0" />
        <limit effort="30" velocity="100" lower="-2.18166" upper="0.401426" />
    </joint>
    <joint name="r_shoulder_pitch" type="fixed">
        <origin xyz="0.00525 0.1433 0.11026" rpy="-1.309 -0 1.5708" />
        <axis xyz="0 1 5.55112e-17" />
        <parent link="chest" />
        <child link="r_shoulder_1" />
        <dynamics damping="0" friction="0" />
        <limit effort="84" velocity="100" lower="-1.65806" upper="0.0872665" />
    </joint>
    <joint name="r_shoulder_roll" type="fixed">
        <origin xyz="0 0 0" rpy="-1.5708 1.11022e-16 -1.5708" />
        <axis xyz="0 -1 6.12323e-17" />
        <parent link="r_shoulder_1" />
        <child link="r_shoulder_2" />
        <dynamics damping="0" friction="0" />
        <limit effort="84" velocity="100" lower="0" upper="2.80649" />
    </joint>
    <joint name="r_shoulder_yaw" type="fixed">
        <origin xyz="-4.33681e-19 0 0" rpy="3.14159 -0 1.309" />
        <axis xyz="0 6.12323e-17 -1" />
        <parent link="r_shoulder_2" />
        <child link="r_shoulder_3" />
        <dynamics damping="0" friction="0" />
        <limit effort="34" velocity="100" lower="-0.645772" upper="1.74533" />
    </joint>
    <joint name="r_sole_fixed_joint" type="fixed">
        <origin xyz="-0.0353 -1.38778e-17 -0.001" rpy="3.14159 -0 0" />
        <axis xyz="0 0 0" />
        <parent link="r_foot" />
        <child link="r_sole" />
    </joint>
    <joint name="r_arm_ft_sensor" type="fixed">
        <origin xyz="0.015 -8.93429e-18 0.068" rpy="0 -0 0" />
        <axis xyz="0 0 0" />
        <parent link="r_shoulder_3" />
        <child link="r_upper_arm" />
    </joint>
    <joint name="r_upper_arm_dh_frame_fixed_joint" type="fixed">
        <origin xyz="0 0 0.08428" rpy="1.5708 -0 3.14159" />
        <axis xyz="0 0 0" />
        <parent link="r_upper_arm" />
        <child link="r_upper_arm_dh_frame" />
    </joint>
    <joint name="r_hip_yaw" type="revolute">
        <origin xyz="0 0 -0.0665" rpy="-1.5708 -6.16298e-33 6.12323e-17" />
        <axis xyz="0 -1 6.12323e-17" />
        <parent link="r_hip_3" />
        <child link="r_upper_leg" />
        <dynamics damping="0" friction="0" />
        <limit effort="40" velocity="100" lower="-1.37881" upper="1.37881" />
    </joint>
    <joint name="r_wrist_pitch" type="fixed">
        <origin xyz="0 -0.1373 -8.4072e-18" rpy="1.5708 1.11022e-16 1.5708" />
        <axis xyz="0 1 6.12323e-17" />
        <parent link="r_forearm" />
        <child link="r_wrist_1" />
        <dynamics damping="0" friction="0" />
        <limit effort="0.65" velocity="100" lower="-1.13446" upper="0.174533" />
    </joint>
    <joint name="base_fixed_joint" type="fixed">
        <origin xyz="0 0 0" rpy="0 0 3.14159" />
        <axis xyz="0 0 0" />
        <parent link="base_link" />
        <child link="root_link" />
    </joint>
    <joint name="torso_joint" type="fixed">
        <origin xyz="0.00231 0.1933 -1.18362e-17" rpy="0 -0 0" />
        <axis xyz="0 0 0" />
        <parent link="chest" />
        <child link="torso" />
    </joint>
    <joint name="torso_pitch" type="fixed">
        <origin xyz="0 0 0" rpy="0 -1.5708 3.14159" />
        <axis xyz="0 1 6.12323e-17" />
        <parent link="root_link" />
        <child link="torso_1" />
        <dynamics damping="0" friction="0" />
        <limit effort="36" velocity="100" lower="-0.383972" upper="1.46608" />
    </joint>
    <joint name="torso_roll" type="fixed">
        <origin xyz="0.032 -2.67276e-51 0" rpy="1.5708 -1.11022e-16 -1.5708" />
        <axis xyz="0 1 6.12323e-17" />
        <parent link="torso_1" />
        <child link="torso_2" />
        <dynamics damping="0" friction="0" />
        <limit effort="80" velocity="100" lower="-0.680678" upper="0.680678" />
    </joint>
    <gazebo reference="l_arm_ft_sensor">
        <sensor name="left_arm_ft" type="force_torque">
            <force_torque>
                <frame>child</frame>
                <measure_direction>child_to_parent</measure_direction>
            </force_torque>
            <update_rate>100</update_rate>
            <always_on>1</always_on>
        </sensor>
    </gazebo>
    <gazebo reference="r_arm_ft_sensor">
        <sensor name="right_arm_ft" type="force_torque">
            <force_torque>
                <frame>child</frame>
                <measure_direction>child_to_parent</measure_direction>
            </force_torque>
            <update_rate>100</update_rate>
            <always_on>1</always_on>
        </sensor>
    </gazebo>
    <gazebo reference="l_leg_ft_sensor">
        <sensor name="left_leg_ft" type="force_torque">
            <force_torque>
                <frame>child</frame>
                <measure_direction>child_to_parent</measure_direction>
            </force_torque>
            <update_rate>100</update_rate>
            <always_on>1</always_on>
        </sensor>
    </gazebo>
    <gazebo reference="r_leg_ft_sensor">
        <sensor name="right_leg_ft" type="force_torque">
            <force_torque>
                <frame>child</frame>
                <measure_direction>child_to_parent</measure_direction>
            </force_torque>
            <update_rate>100</update_rate>
            <always_on>1</always_on>
        </sensor>
    </gazebo>
    <gazebo reference="l_foot_ft_sensor">
        <sensor name="left_foot_ft" type="force_torque">
            <force_torque>
                <frame>child</frame>
                <measure_direction>child_to_parent</measure_direction>
            </force_torque>
            <update_rate>100</update_rate>
            <always_on>1</always_on>
        </sensor>
    </gazebo>
    <gazebo reference="r_foot_ft_sensor">
        <sensor name="right_foot_ft" type="force_torque">
            <force_torque>
                <frame>child</frame>
                <measure_direction>child_to_parent</measure_direction>
            </force_torque>
            <update_rate>100</update_rate>
            <always_on>1</always_on>
        </sensor>
    </gazebo>
    <sensor type="force_torque" name="l_arm_ft_sensor">
        <parent joint="l_arm_ft_sensor" />
        <force_torque>
            <frame>child</frame>
            <measure_direction>child_to_parent</measure_direction>
        </force_torque>
    </sensor>
    <sensor type="force_torque" name="r_arm_ft_sensor">
        <parent joint="r_arm_ft_sensor" />
        <force_torque>
            <frame>child</frame>
            <measure_direction>child_to_parent</measure_direction>
        </force_torque>
    </sensor>
    <sensor type="force_torque" name="l_leg_ft_sensor">
        <parent joint="l_leg_ft_sensor" />
        <force_torque>
            <frame>child</frame>
            <measure_direction>child_to_parent</measure_direction>
        </force_torque>
    </sensor>
    <sensor type="force_torque" name="r_leg_ft_sensor">
        <parent joint="r_leg_ft_sensor" />
        <force_torque>
            <frame>child</frame>
            <measure_direction>child_to_parent</measure_direction>
        </force_torque>
    </sensor>
    <sensor type="force_torque" name="l_foot_ft_sensor">
        <parent joint="l_foot_ft_sensor" />
        <force_torque>
            <frame>child</frame>
            <measure_direction>child_to_parent</measure_direction>
        </force_torque>
    </sensor>
    <sensor type="force_torque" name="r_foot_ft_sensor">
        <parent joint="r_foot_ft_sensor" />
        <force_torque>
            <frame>child</frame>
            <measure_direction>child_to_parent</measure_direction>
        </force_torque>
    </sensor>
</robot>
